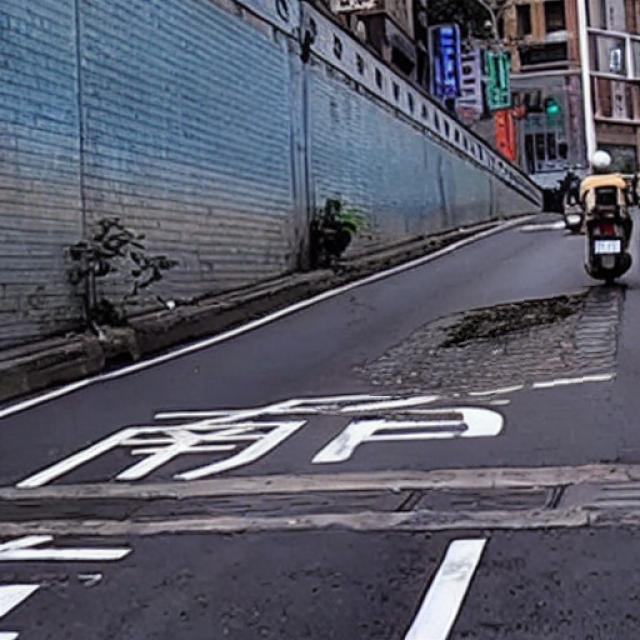puddle: (368, 288, 626, 395)
